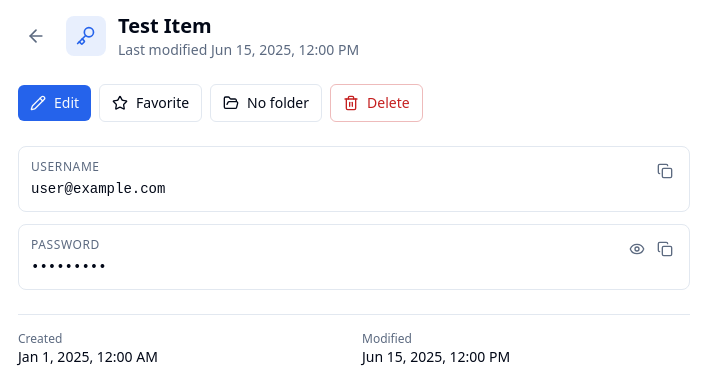
Test: VaultItemDetail / action bar › closes the folder menu after a successful move
This screenshot has width=707, height=383.
Click the button "No folder".
click(266, 103)  # box [210,84,322,122]
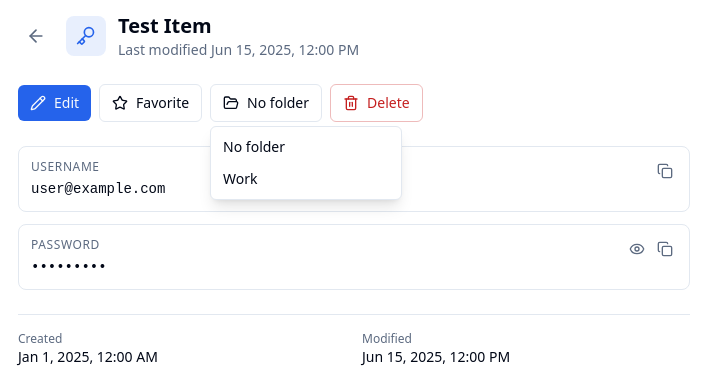
Click the menu item "Work".
click(306, 179)  # box [215,163,397,195]
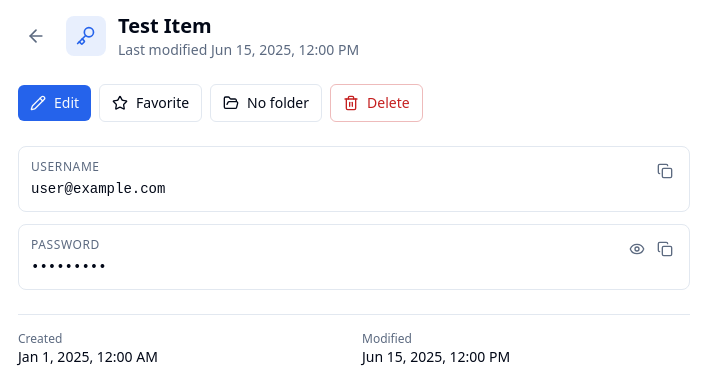
Result: the menu is gone
